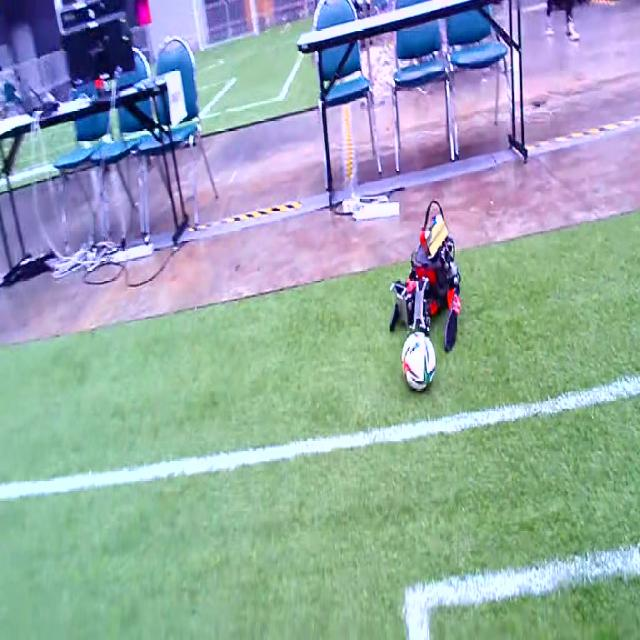ball: (402, 332, 436, 390)
